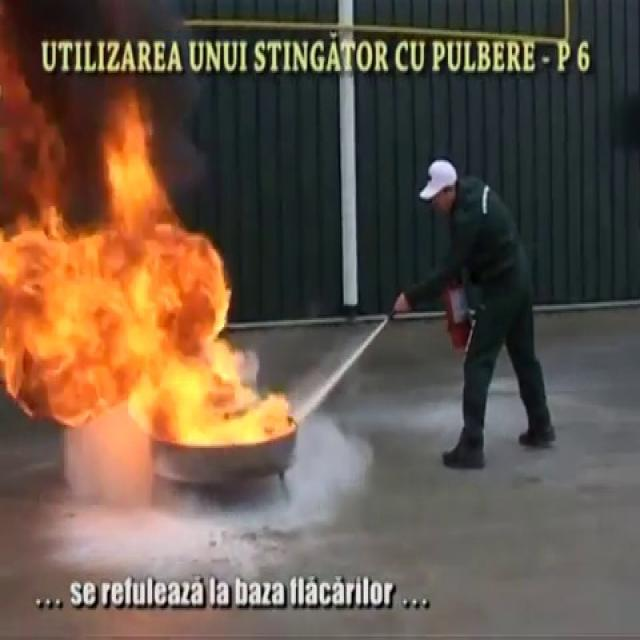Fire: (0, 109, 292, 458)
